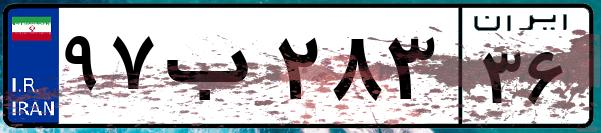2: (270, 28, 330, 110)
3: (385, 28, 445, 110), (475, 38, 525, 113)
6: (525, 38, 570, 115)
7: (110, 28, 158, 98)
8: (330, 28, 385, 110)
9: (57, 26, 110, 100)
ب: (158, 20, 270, 120)
